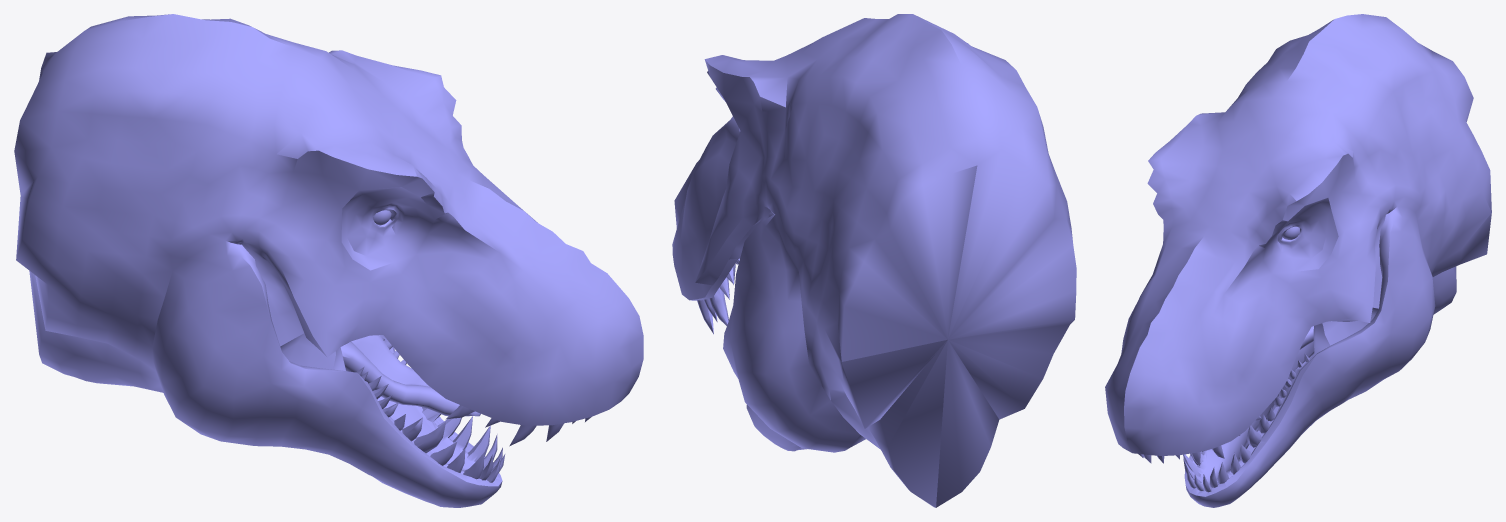
The model's file is embedded.gltf.
The picture shows the model from 3 angles, left to right: view 1: azimuth 30°, elevation 25°; view 2: azimuth 150°, elevation 25°; view 3: azimuth 270°, elevation 25°; orthographic projection. The views are drawn at different scales.
Parts seen in each view (by area): view 1: Object_2; view 2: Object_2; view 3: Object_2.
Boxes of the visible parts, x1,y1,x2,y2 form: Object_2: (14, 14, 643, 507); Object_2: (672, 14, 1076, 507); Object_2: (1105, 14, 1491, 507).
Size of the model in its own units: 14.15 by 13.66 by 11.93.
